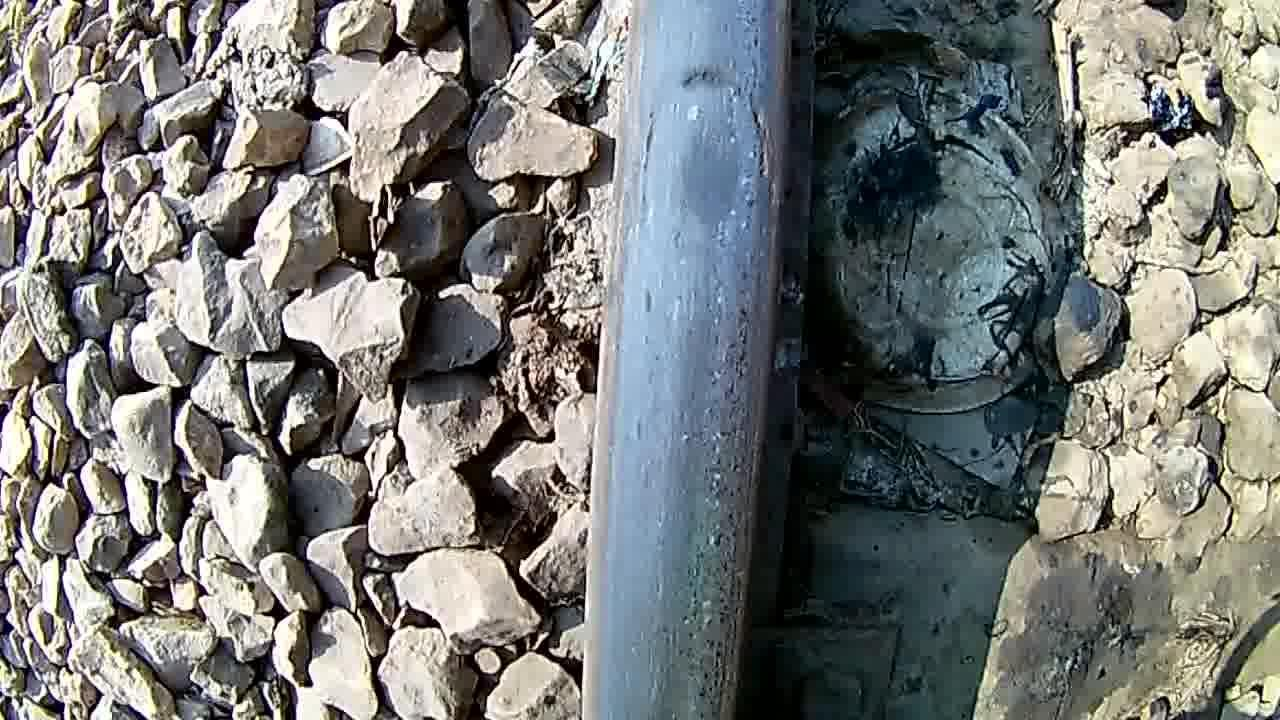crack: (617, 10, 783, 330)
